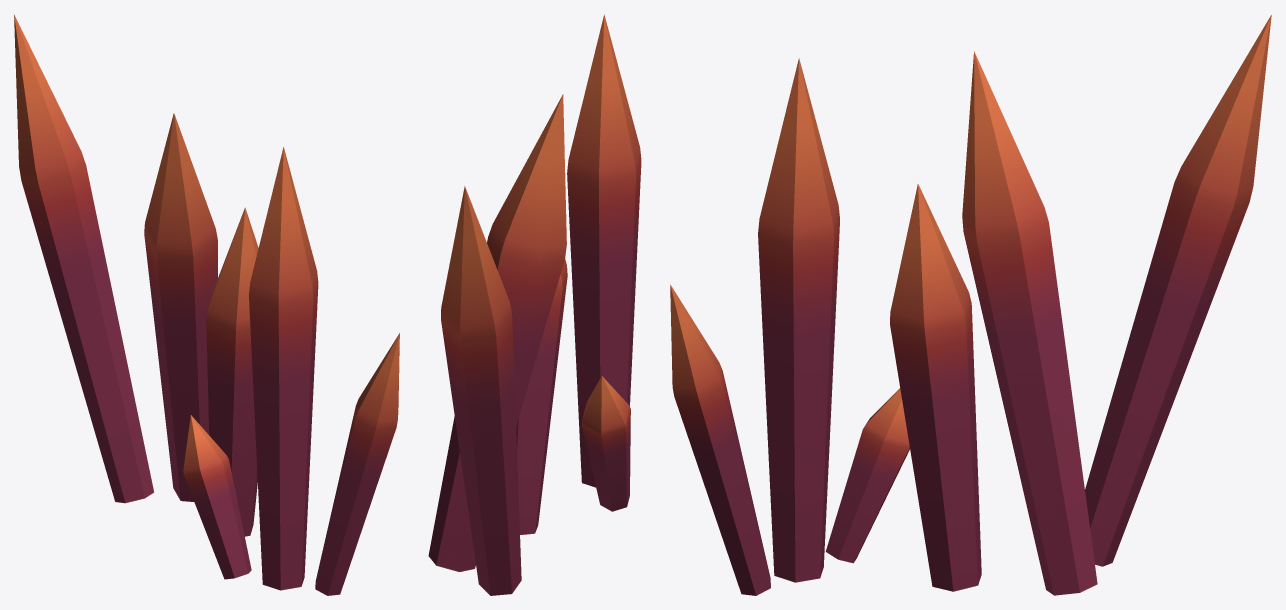
File: Spike.FBX
3 views of the same model, side by side, from view 1: azimuth 30°, elevation 25°; view 2: azimuth 150°, elevation 25°; view 3: azimuth 270°, elevation 25° (orthographic). The views are drawn at different scales.
Visible parts, largest first — view 1: Cylinder002; view 2: Cylinder002; view 3: Cylinder002.
Boxes of the visible parts, x1,y1,x2,y2 form: Cylinder002: [14, 14, 399, 595]; Cylinder002: [428, 14, 641, 595]; Cylinder002: [670, 15, 1271, 595].
Bounding box in the file's own units: 40.73 × 113 × 118.
